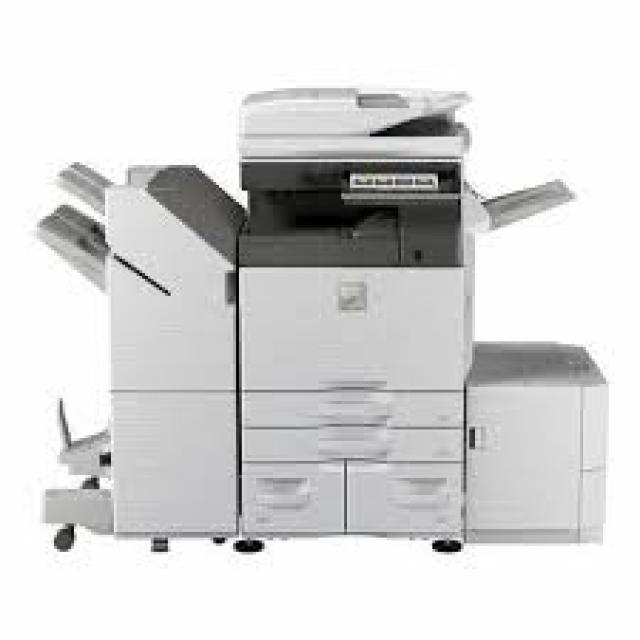printer: (31, 82, 609, 554)
